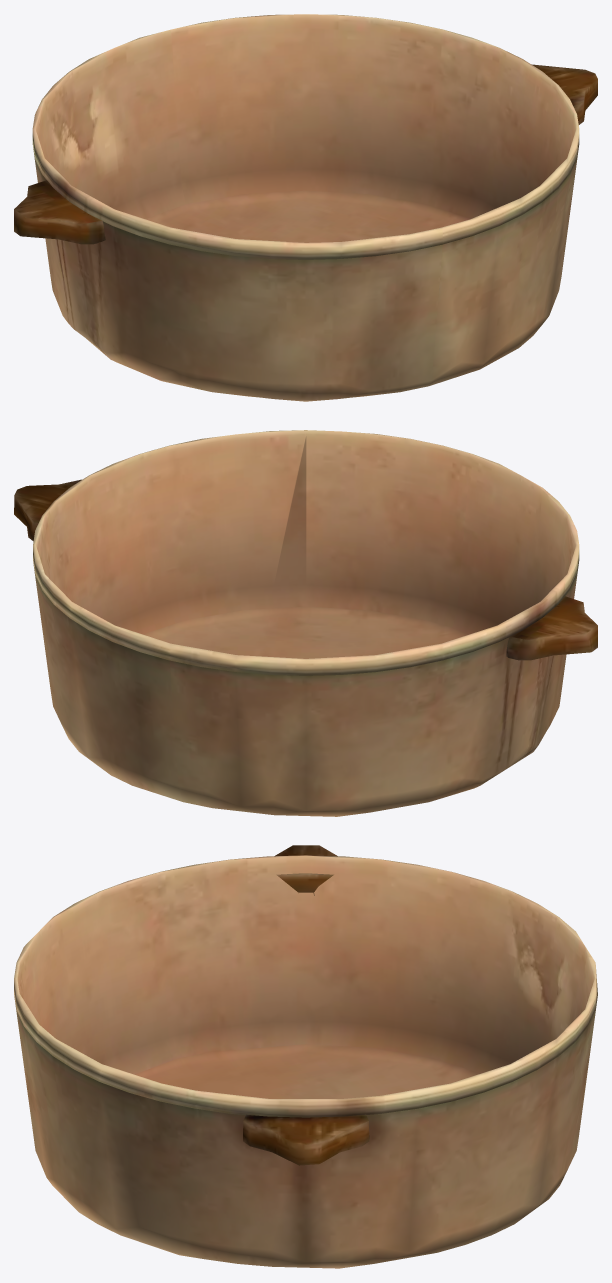
Rendered from brass_pot_02.glb.
The picture shows the model from 3 angles, top to bottom: view 1: azimuth 30°, elevation 25°; view 2: azimuth 150°, elevation 25°; view 3: azimuth 270°, elevation 25°; orthographic projection. The views are drawn at different scales.
Visible parts, largest first — view 1: brass_pot_02; view 2: brass_pot_02; view 3: brass_pot_02.
Boxes of the visible parts, left/top/right/bottom form: brass_pot_02: left=14, top=14, right=597, bottom=401; brass_pot_02: left=14, top=430, right=597, bottom=816; brass_pot_02: left=14, top=845, right=597, bottom=1268.
Size of the model in its own units: 0.3658 by 0.1082 by 0.2998.
1 material, 1 textured.
